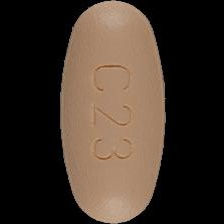54868-5075: (0, 0, 224, 224)
